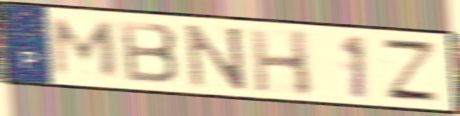1: (338, 33, 373, 102)
B: (117, 18, 183, 86)
H: (247, 27, 316, 98)
M: (51, 15, 121, 79)
N: (182, 22, 250, 92)
Z: (378, 36, 444, 105)
